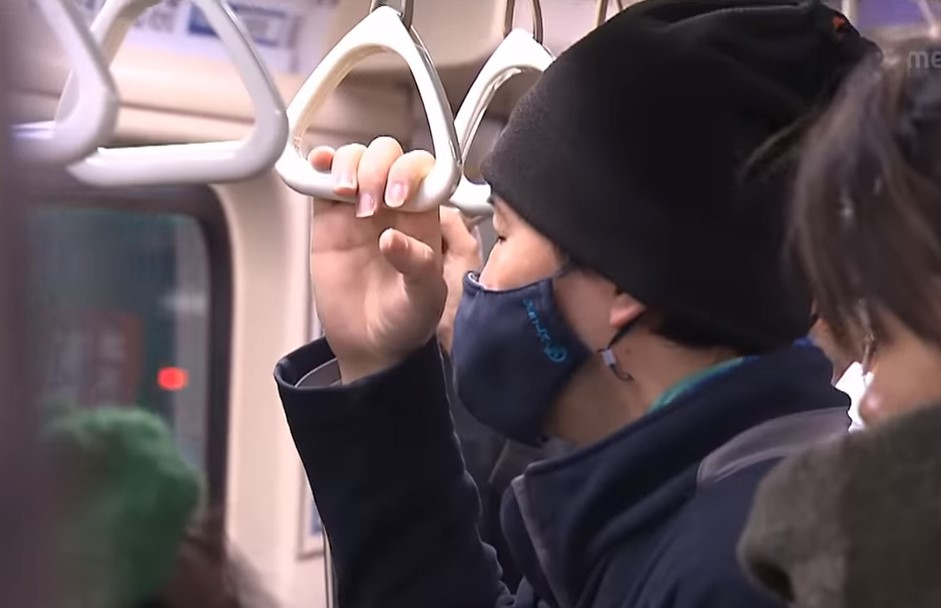face_with_mask: (444, 0, 783, 455)
